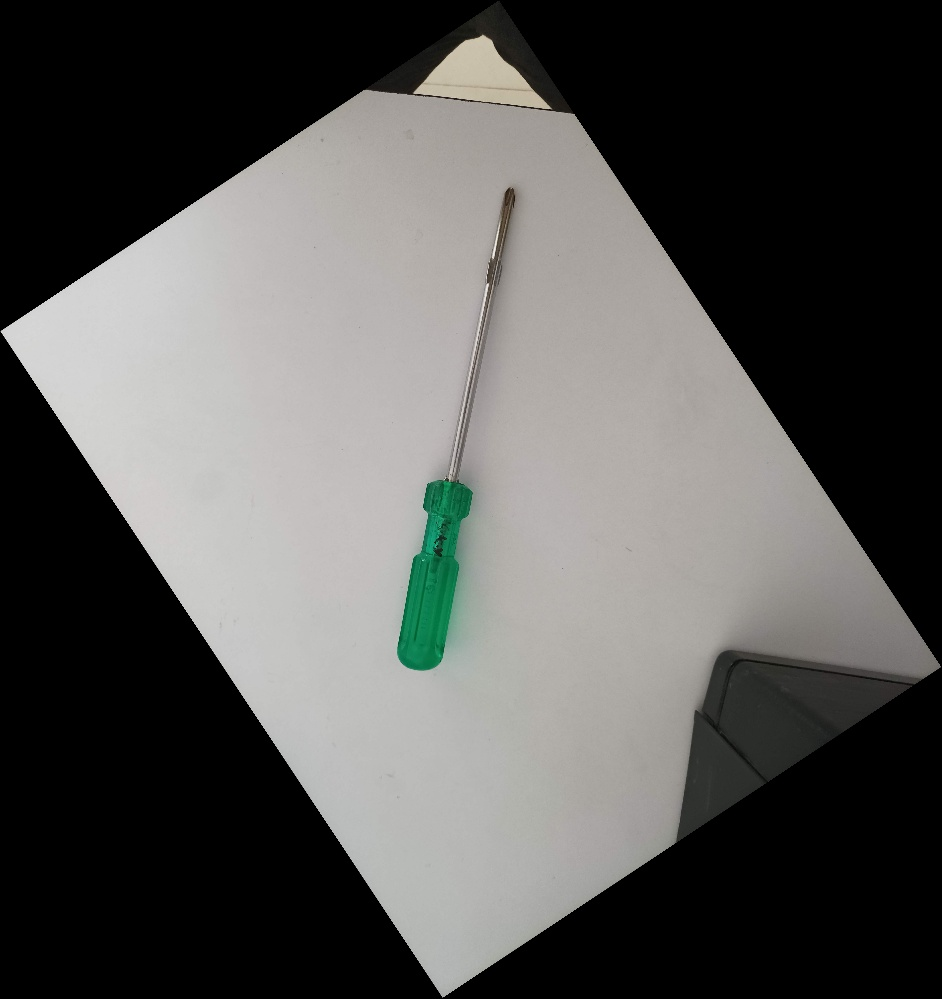screwdriver: (391, 184, 520, 673)
